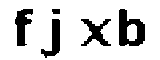b: (115, 4, 151, 48)
f: (9, 5, 36, 50)
j: (40, 5, 67, 60)
x: (76, 15, 114, 51)
